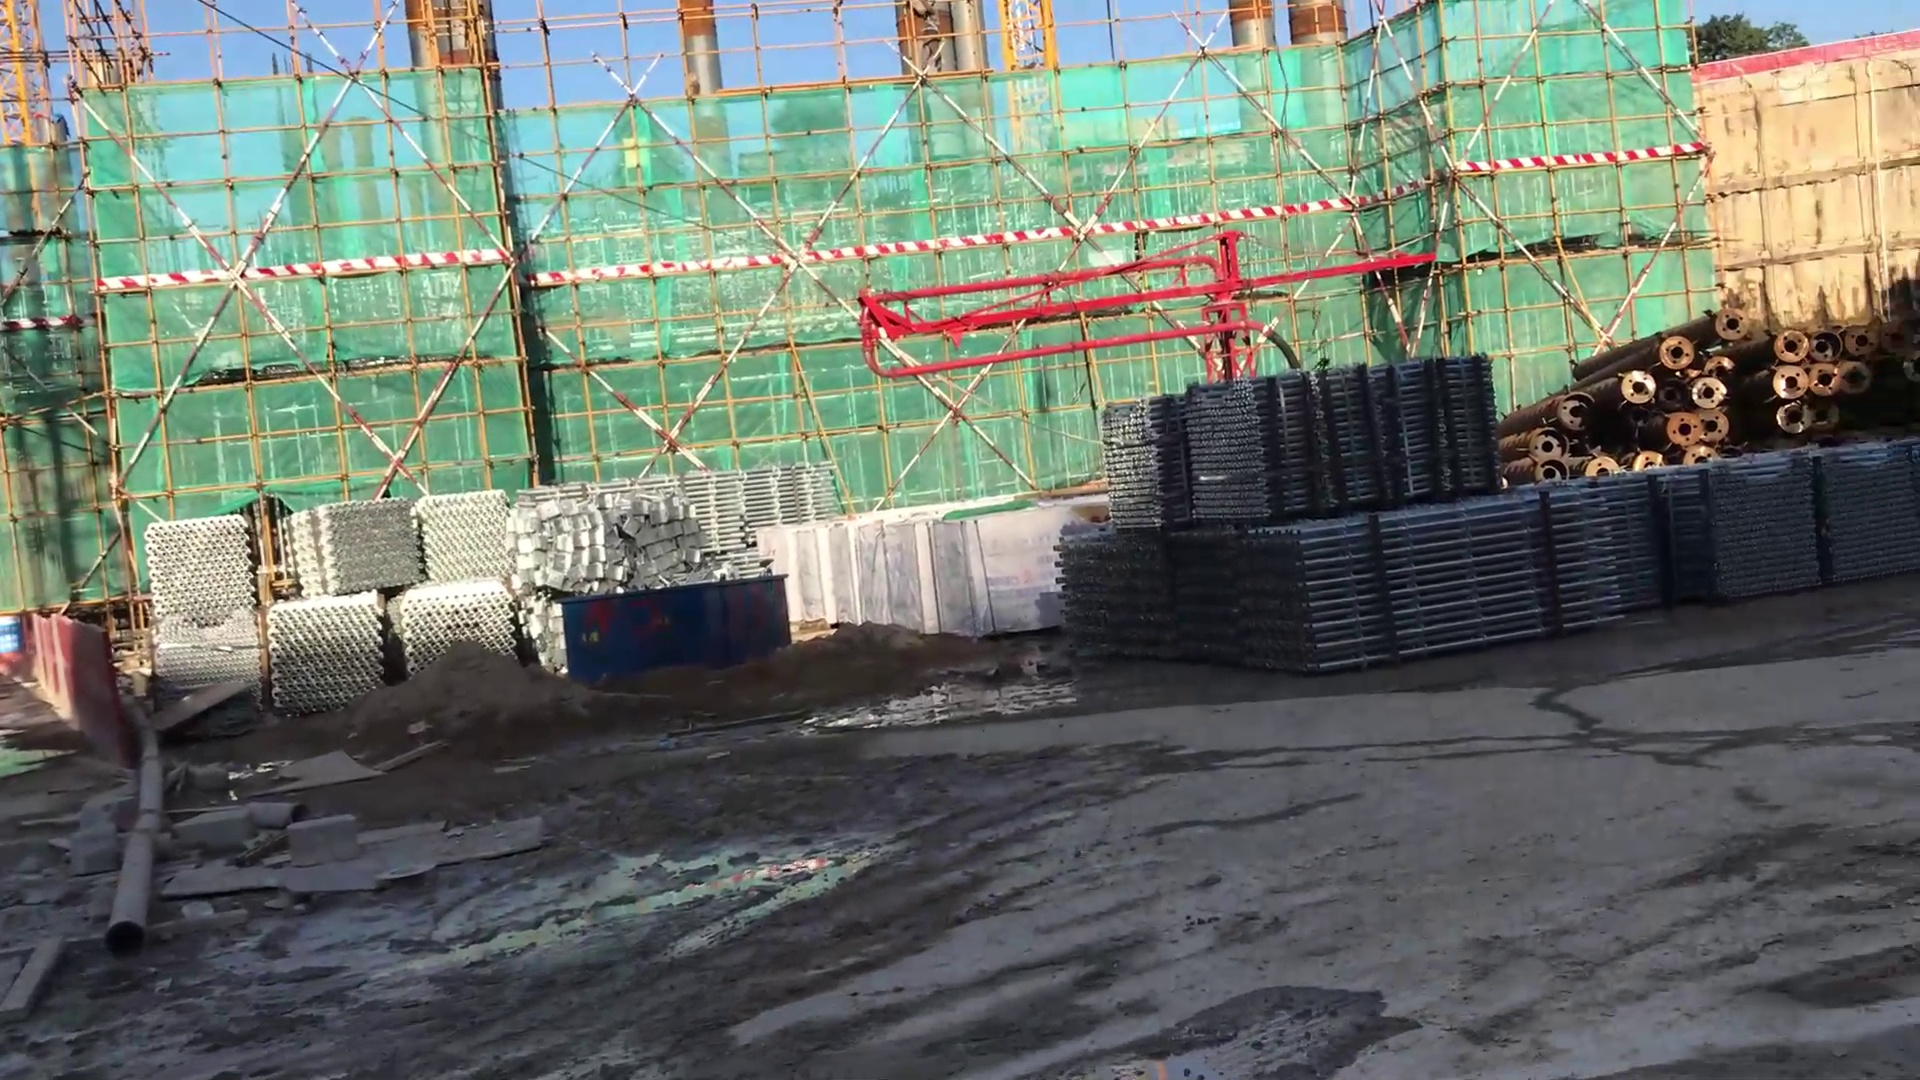fence: (1, 596, 141, 783)
hopper: (555, 564, 819, 696)
scaffold: (1052, 500, 1663, 655), (1069, 382, 1538, 506), (1600, 433, 1920, 597), (274, 493, 510, 593), (225, 582, 385, 716), (117, 516, 273, 633), (373, 568, 516, 670), (680, 473, 825, 517)
